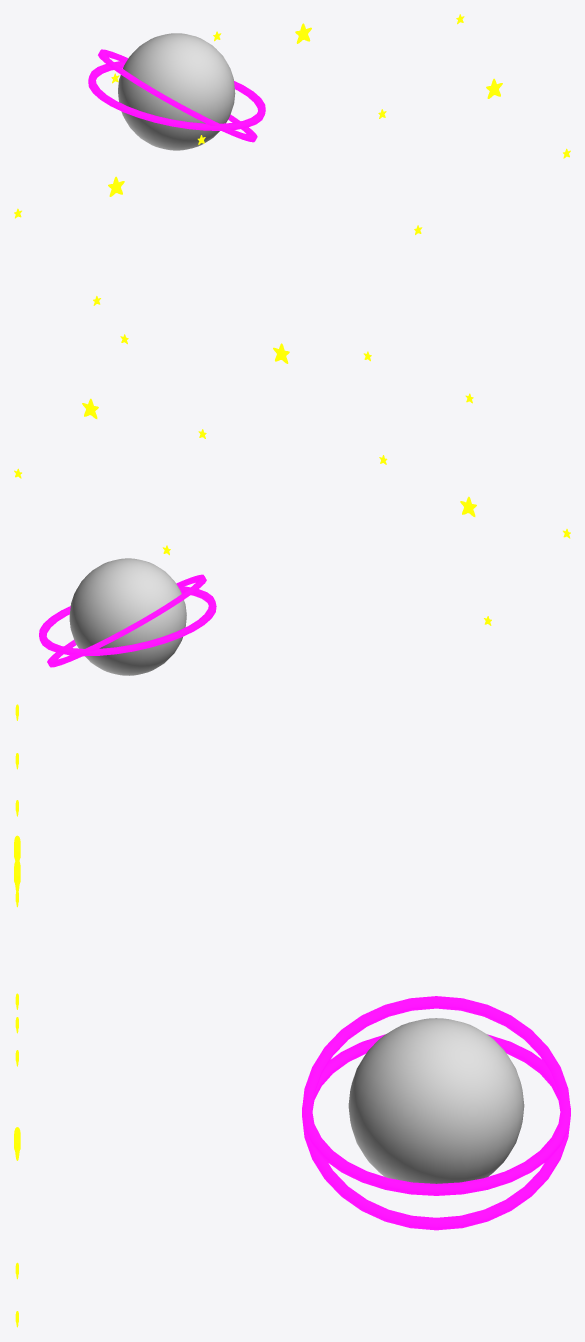
File: PX_AssetsNey.fbx
3 views of the same model, one above another, from view 1: azimuth 30°, elevation 25°; view 2: azimuth 150°, elevation 25°; view 3: azimuth 270°, elevation 25° (orthographic). The views are drawn at different scales.
Visible parts, largest first — view 1: Sphere, Circle.001, Circle; view 2: Sphere, Circle.001, Circle; view 3: Sphere, Circle, Circle.001.
Part boxes in pixels (x1=…): Sphere: x1=118, y1=33, x2=235, y2=150; Circle.001: x1=88, y1=61, x2=265, y2=130; Circle: x1=98, y1=49, x2=257, y2=142; Sphere: x1=69, y1=558, x2=186, y2=675; Circle.001: x1=39, y1=586, x2=216, y2=656; Circle: x1=47, y1=574, x2=206, y2=667; Sphere: x1=348, y1=1018, x2=524, y2=1183; Circle: x1=302, y1=996, x2=570, y2=1230; Circle.001: x1=302, y1=1034, x2=570, y2=1195.
Size of the model in its own units: 4246 by 1840 by 2460.
